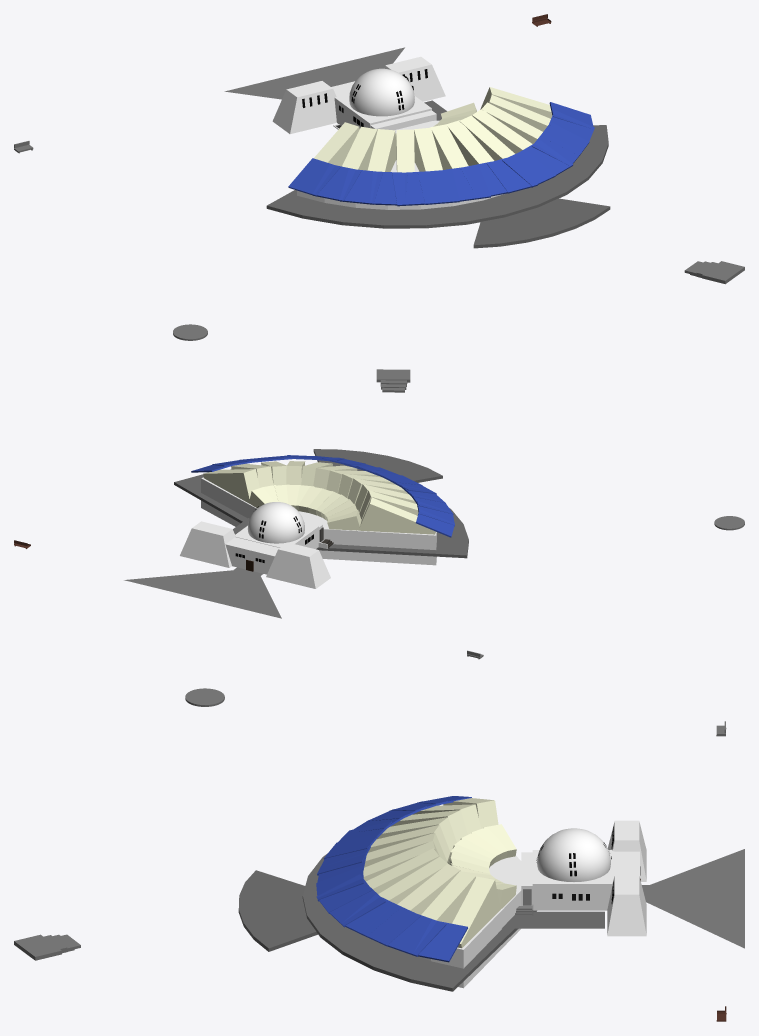
Rendered from nyasta_as_1.obj.
3 views of the same model, one above another, from view 1: azimuth 30°, elevation 25°; view 2: azimuth 150°, elevation 25°; view 3: azimuth 270°, elevation 25° (orthographic). The views are drawn at different scales.
Visible parts, largest first — view 1: Cube.047, Cube.033, Cylinder.001, innanhus, Cylinder.002, Plane, syningarsalur, Cube, Cube.019; view 2: Cube.033, innanhus, syningarsalur, Plane, Cube.047, Cylinder.001, Cylinder.002, Cube; view 3: Cube.033, innanhus, Cube.047, Plane, Cylinder.001, Cylinder.002, syningarsalur, Plane.001, Cube, Cylinder.
Boxes of the visible parts, bbox=[...] form: Cube.047: bbox=[288, 102, 594, 206]; Cube.033: bbox=[314, 87, 552, 172]; Cylinder.001: bbox=[266, 125, 608, 228]; innanhus: bbox=[272, 56, 445, 134]; Cylinder.002: bbox=[473, 198, 610, 248]; Plane: bbox=[224, 47, 404, 99]; syningarsalur: bbox=[297, 120, 502, 209]; Cube: bbox=[684, 261, 744, 284]; Cube.019: bbox=[370, 110, 436, 130]; Cube.033: bbox=[203, 461, 435, 534]; innanhus: bbox=[180, 502, 330, 588]; syningarsalur: bbox=[201, 477, 436, 565]; Plane: bbox=[124, 567, 281, 618]; Cube.047: bbox=[191, 455, 454, 537]; Cylinder.001: bbox=[174, 469, 468, 558]; Cylinder.002: bbox=[313, 449, 442, 482]; Cube: bbox=[376, 369, 410, 392]; Cube.033: bbox=[363, 798, 516, 948]; innanhus: bbox=[532, 820, 646, 936]; Cube.047: bbox=[316, 796, 471, 962]; Plane: bbox=[642, 849, 744, 948]; Cylinder.001: bbox=[302, 853, 536, 991]; Cylinder.002: bbox=[238, 870, 317, 951]; syningarsalur: bbox=[418, 855, 521, 988]; Plane.001: bbox=[502, 911, 604, 928]; Cube: bbox=[14, 934, 80, 960]; Cylinder: bbox=[185, 688, 224, 706].
Bounding box in the file's own units: 79.35 × 9.13 × 73.85.
